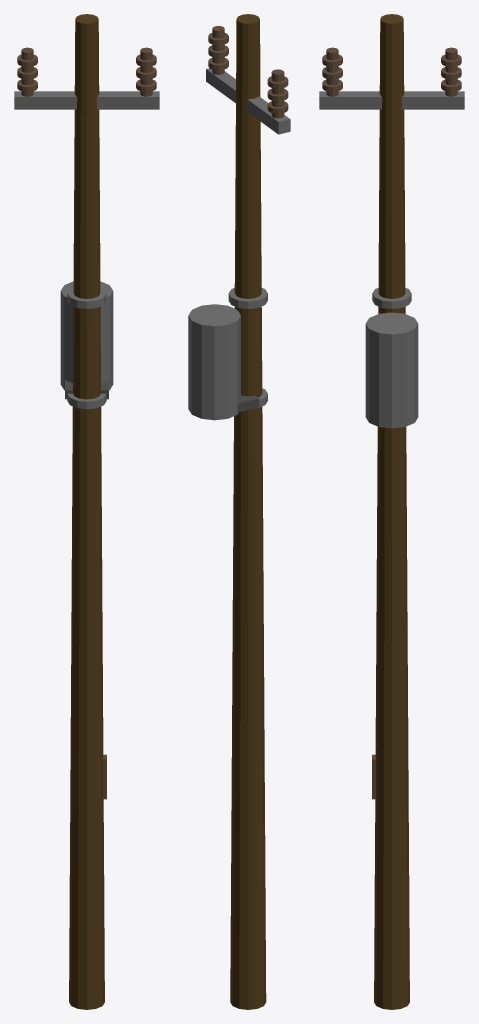
Rendered from utility_pole.fbx.
The picture shows the model from 3 angles, left to right: view 1: azimuth 90°, elevation 25°; view 2: azimuth 210°, elevation 25°; view 3: azimuth 270°, elevation 25°; orthographic projection.
Visible parts, largest first — view 1: utility_pole; view 2: utility_pole; view 3: utility_pole.
Part boxes in pixels (left/top/right/bottom): utility_pole: left=14, top=14, right=159, bottom=1009; utility_pole: left=188, top=14, right=290, bottom=1009; utility_pole: left=319, top=14, right=464, bottom=1009.
Bounding box in the file's own units: 0.612 × 7.85 × 1.05.
